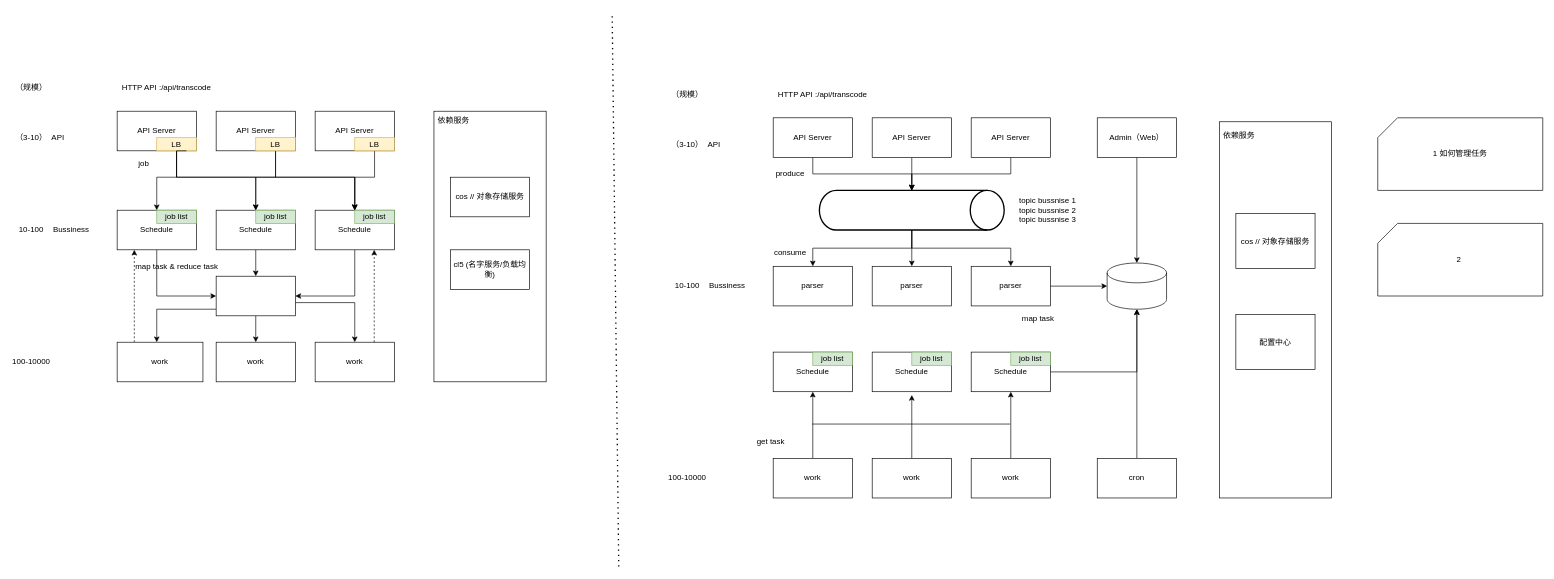
Some shapes in this 1554 by 579 pixel diagram are drawn without their labels. The centre of each missing label's shape, as x and y in pixels:
"job mq" goes at pixel 911 209.
"router" goes at pixel 255 296.
"task db" goes at pixel 1136 285.
